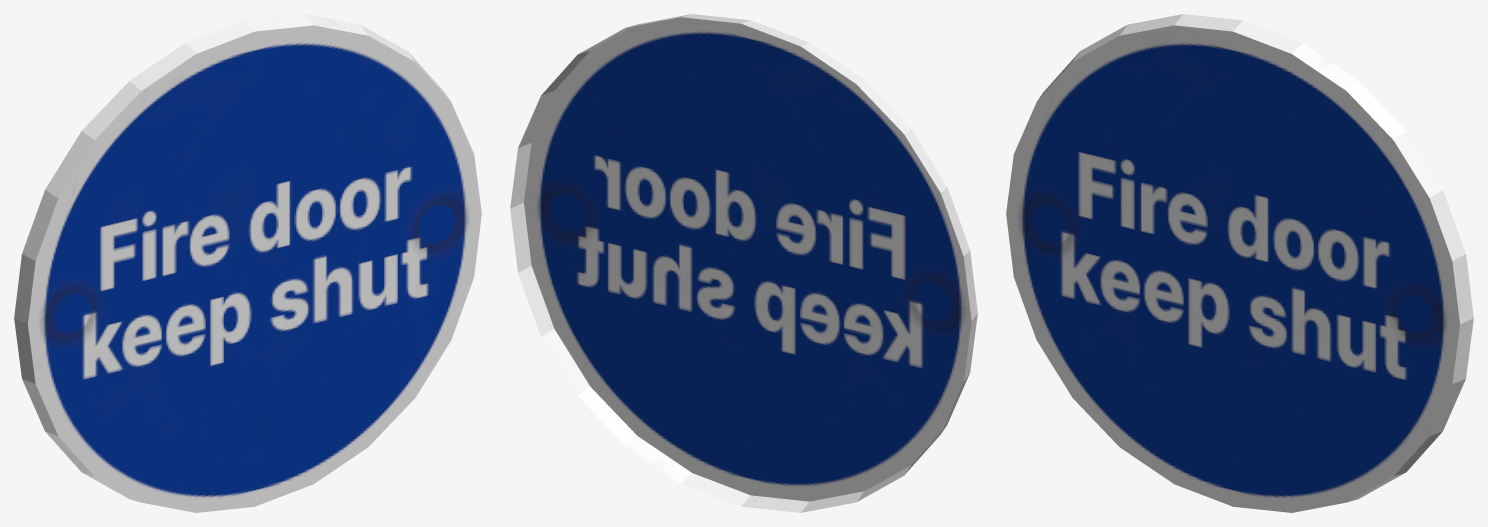
Rendered from SM05_Decals_SafetySign_FireDoor.fbx.
3 views of the same model, side by side, from view 1: azimuth 30°, elevation 25°; view 2: azimuth 150°, elevation 25°; view 3: azimuth 330°, elevation 25° (orthographic).
Visible parts, largest first — view 1: SM05_Decals_SafetySign_FireDoor; view 2: SM05_Decals_SafetySign_FireDoor; view 3: SM05_Decals_SafetySign_FireDoor.
Boxes of the visible parts, bbox=[...] form: SM05_Decals_SafetySign_FireDoor: bbox=[14, 14, 481, 512]; SM05_Decals_SafetySign_FireDoor: bbox=[510, 14, 977, 512]; SM05_Decals_SafetySign_FireDoor: bbox=[1006, 14, 1473, 512].
Size of the model in its own units: 0.08 by 0.08 by 0.003.
